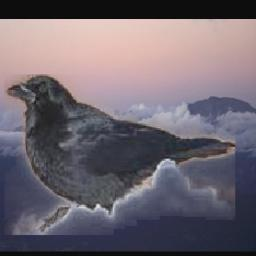Crow: (5, 75, 236, 236)
